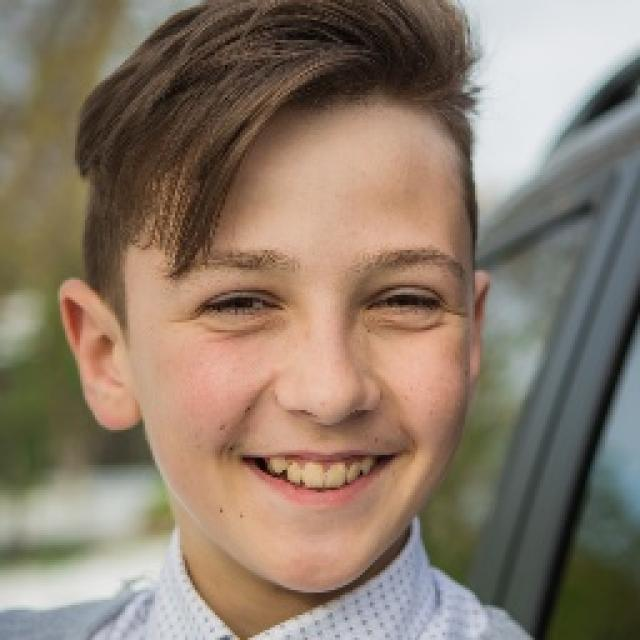earlobe: (58, 278, 140, 433), (469, 270, 493, 405)
